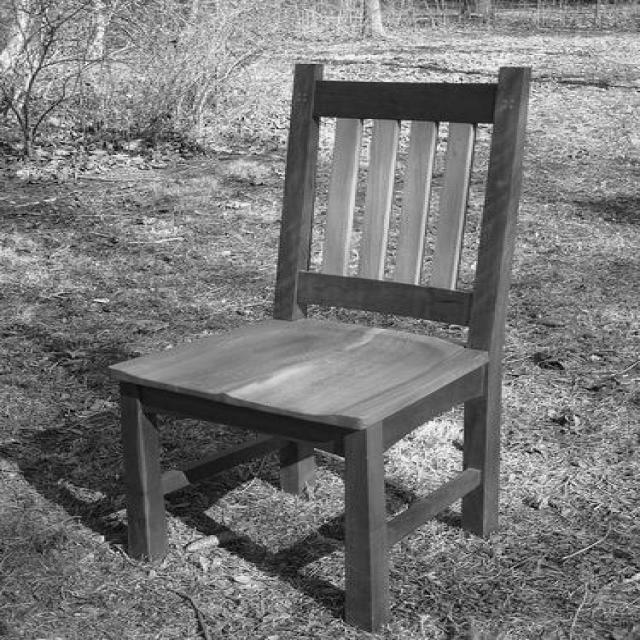chair: (110, 63, 546, 627)
